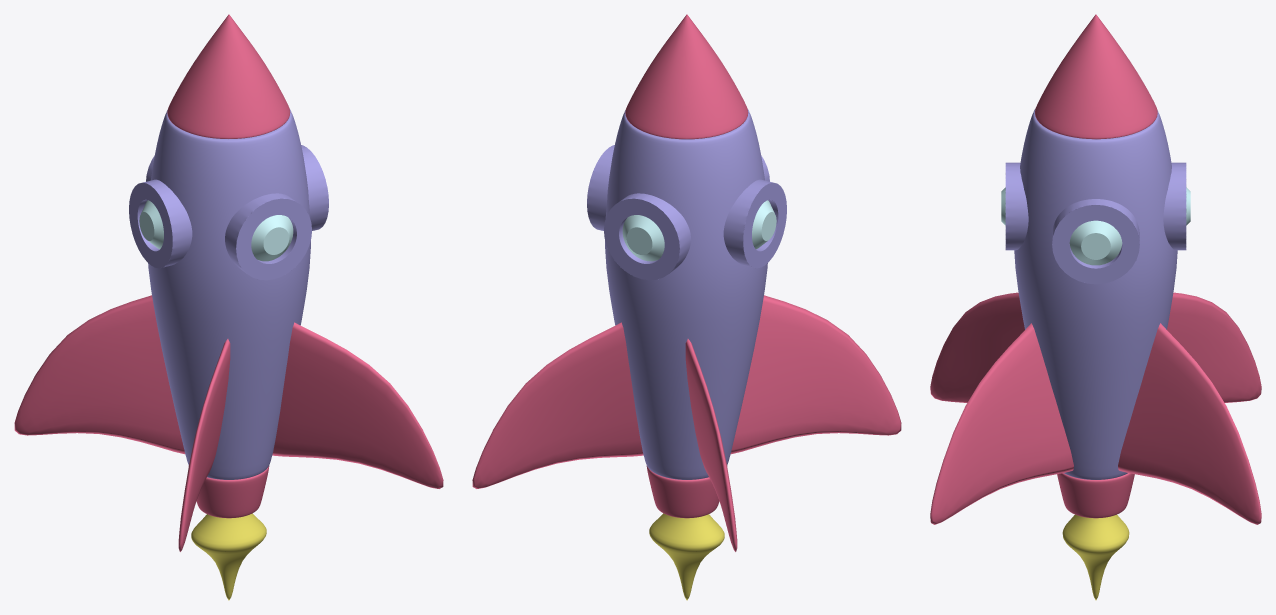
File: rocke.fbx
3 views of the same model, side by side, from view 1: azimuth 30°, elevation 25°; view 2: azimuth 150°, elevation 25°; view 3: azimuth 270°, elevation 25° (orthographic).
Parts seen in each view (by area): view 1: Circle, Circle.001, Circle.003, Circle.002, Circle.004; view 2: Circle, Circle.001, Circle.003, Circle.002, Circle.004; view 3: Circle, Circle.001, Circle.002, Circle.003, Circle.004.
Boxes of the visible parts, box(x1,y1,x2,y2) form: Circle: box(148, 14, 310, 518); Circle.001: box(14, 295, 443, 551); Circle.003: box(146, 156, 311, 280); Circle.002: box(129, 145, 328, 268); Circle.004: box(191, 513, 266, 600); Circle: box(605, 14, 767, 518); Circle.001: box(472, 295, 901, 551); Circle.003: box(604, 156, 769, 280); Circle.002: box(587, 145, 786, 268); Circle.004: box(649, 513, 724, 600); Circle: box(1014, 14, 1177, 518); Circle.001: box(930, 292, 1261, 524); Circle.002: box(1052, 199, 1139, 284); Circle.003: box(1001, 162, 1190, 250); Circle.004: box(1062, 514, 1129, 600).
Size of the model in its own units: 800 by 1702 by 871.
